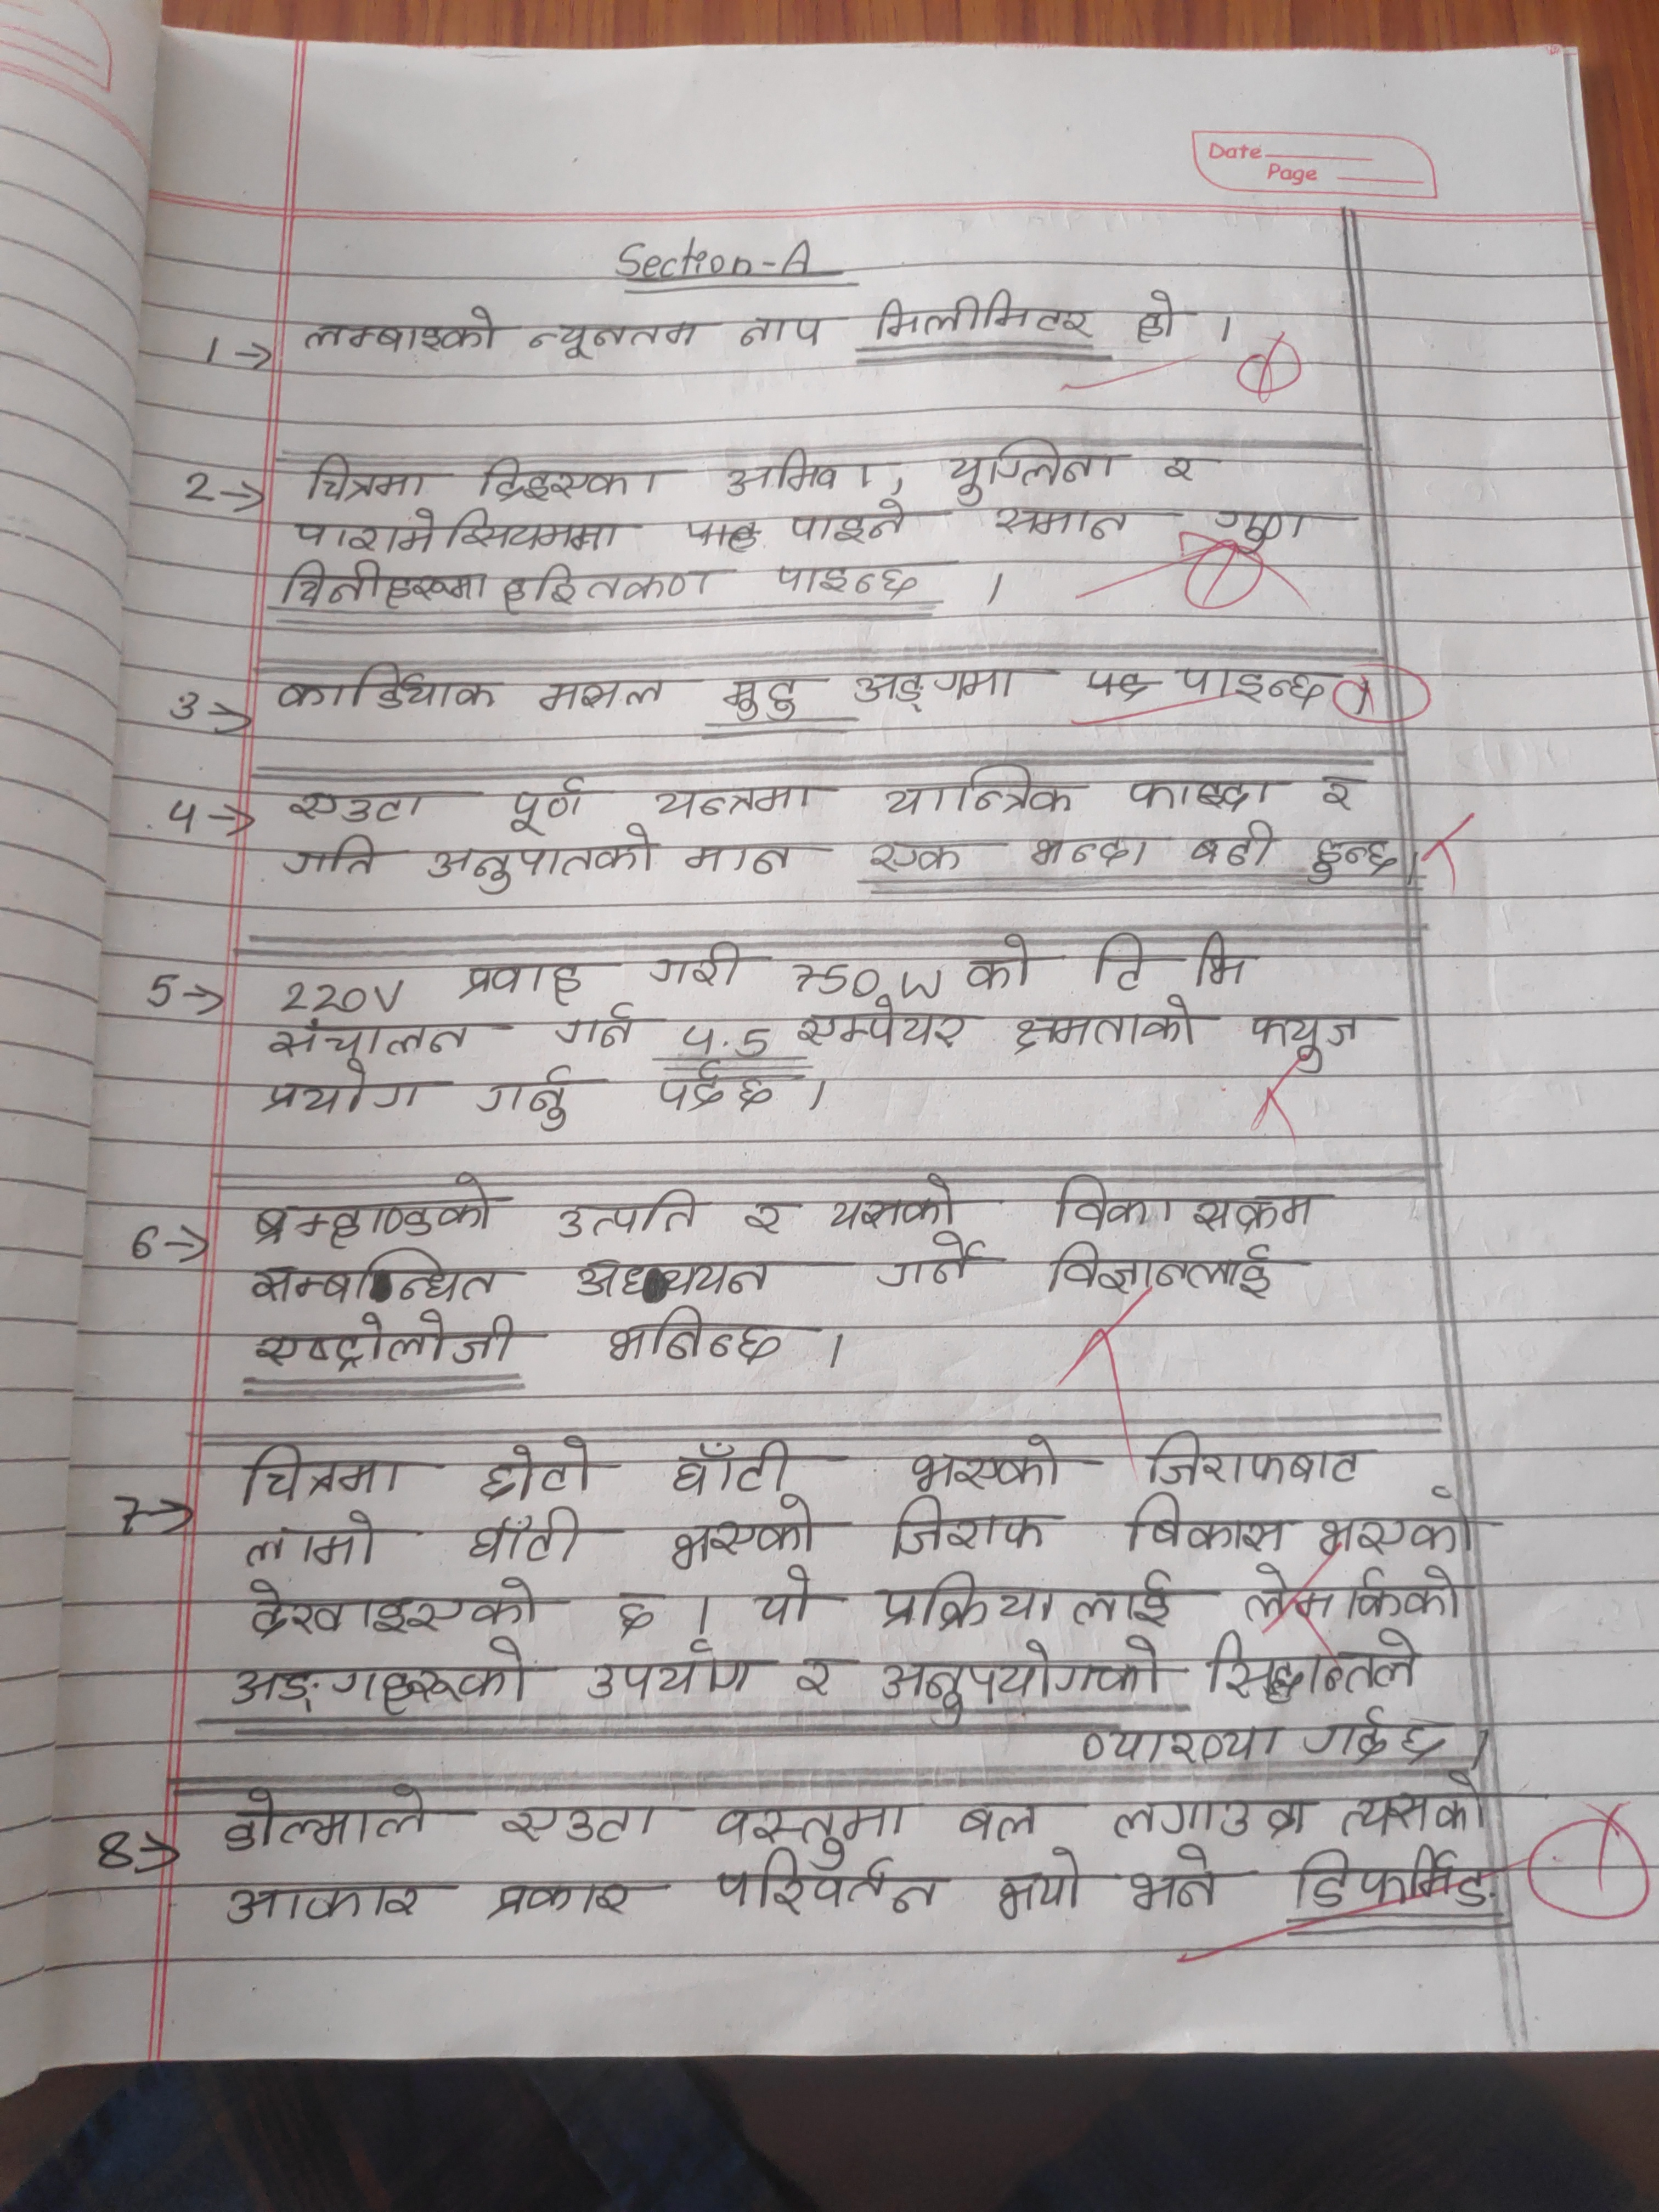text: (875, 1637, 1175, 1723), (221, 1637, 535, 1717), (246, 1568, 540, 1637), (246, 1170, 500, 1247), (878, 1568, 1182, 1630), (1054, 1169, 1317, 1238), (251, 1315, 521, 1376), (295, 510, 627, 559), (422, 822, 657, 890), (1236, 1559, 1464, 1629), (246, 1249, 514, 1308), (1046, 1238, 1283, 1305), (1201, 1630, 1419, 1700), (711, 1851, 939, 1918), (1284, 1846, 1497, 1914), (218, 1792, 437, 1857), (1084, 930, 1265, 1000), (1147, 1437, 1384, 1489), (605, 1299, 786, 1367), (497, 561, 721, 613), (704, 1796, 908, 1853), (866, 294, 1098, 345), (1007, 1000, 1209, 1057), (272, 669, 500, 719), (218, 1876, 436, 1928), (301, 303, 498, 361), (885, 1494, 1056, 1561), (244, 1442, 416, 1507), (565, 1251, 784, 1301), (1314, 1487, 1476, 1555), (254, 1061, 451, 1116), (877, 768, 1079, 822), (1333, 1770, 1493, 1838), (939, 441, 1101, 507), (275, 561, 488, 610), (584, 1649, 756, 1709), (1131, 1496, 1293, 1559), (263, 1017, 502, 1059), (903, 1428, 1065, 1489), (471, 453, 666, 502), (796, 1001, 969, 1054), (1304, 1703, 1457, 1761), (830, 1169, 964, 1233), (667, 1503, 817, 1561), (476, 1064, 592, 1136), (1126, 1843, 1232, 1921), (1107, 1797, 1312, 1838), (1246, 1010, 1373, 1075), (479, 1439, 601, 1505), (247, 1512, 389, 1568), (852, 667, 1032, 711), (1077, 1728, 1288, 1764), (528, 317, 704, 361), (486, 1872, 643, 1921), (498, 1801, 660, 1848), (469, 1508, 591, 1569), (558, 1191, 706, 1240), (1175, 664, 1328, 711), (669, 1437, 795, 1494), (300, 453, 430, 507), (718, 453, 880, 496), (652, 1062, 796, 1111), (993, 1848, 1089, 1921), (878, 1230, 985, 1292), (995, 498, 1141, 543), (535, 676, 681, 719), (1121, 772, 1283, 810), (770, 561, 934, 597), (1021, 829, 1157, 873), (282, 787, 439, 822), (788, 500, 917, 542), (282, 831, 387, 881), (652, 787, 819, 819), (462, 967, 587, 1008), (1215, 505, 1321, 554), (960, 934, 1042, 995), (507, 779, 586, 841), (647, 939, 742, 989), (1300, 834, 1394, 885), (746, 1559, 810, 1630), (1188, 820, 1277, 871), (957, 1797, 1046, 1848), (683, 841, 800, 880), (737, 310, 835, 352), (721, 672, 805, 721), (868, 838, 971, 876), (552, 1007, 641, 1050), (606, 1585, 662, 1641), (1131, 289, 1182, 348), (782, 1651, 843, 1698), (1161, 444, 1215, 491), (744, 1195, 795, 1235), (1314, 775, 1363, 813)
